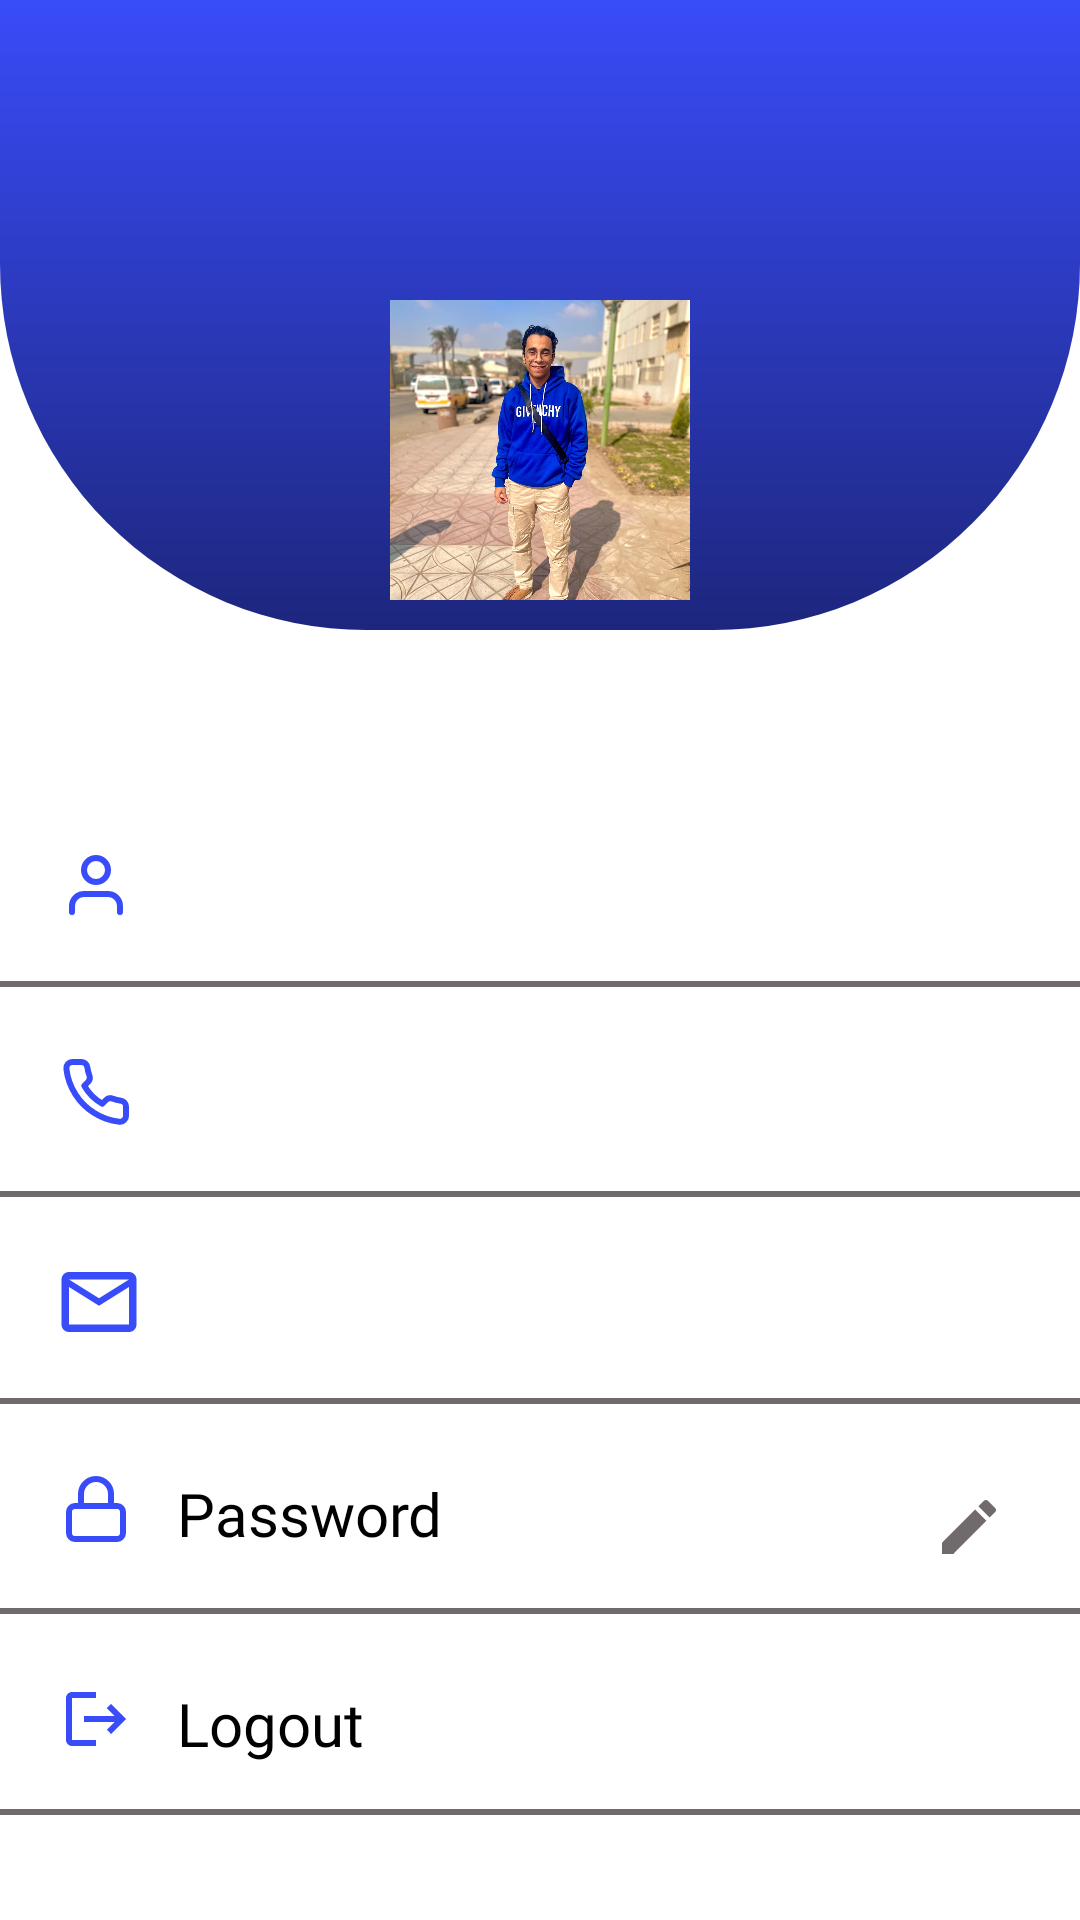

Named icons in this screenshot (1080w x 1920h) and their bounding boxes, [x1, y1, x2, y2]:
edit: [942, 1500, 996, 1554]
email: [61, 1272, 137, 1332]
lock: [66, 1476, 126, 1542]
phone: [63, 1059, 129, 1125]
user: [69, 855, 123, 915]
